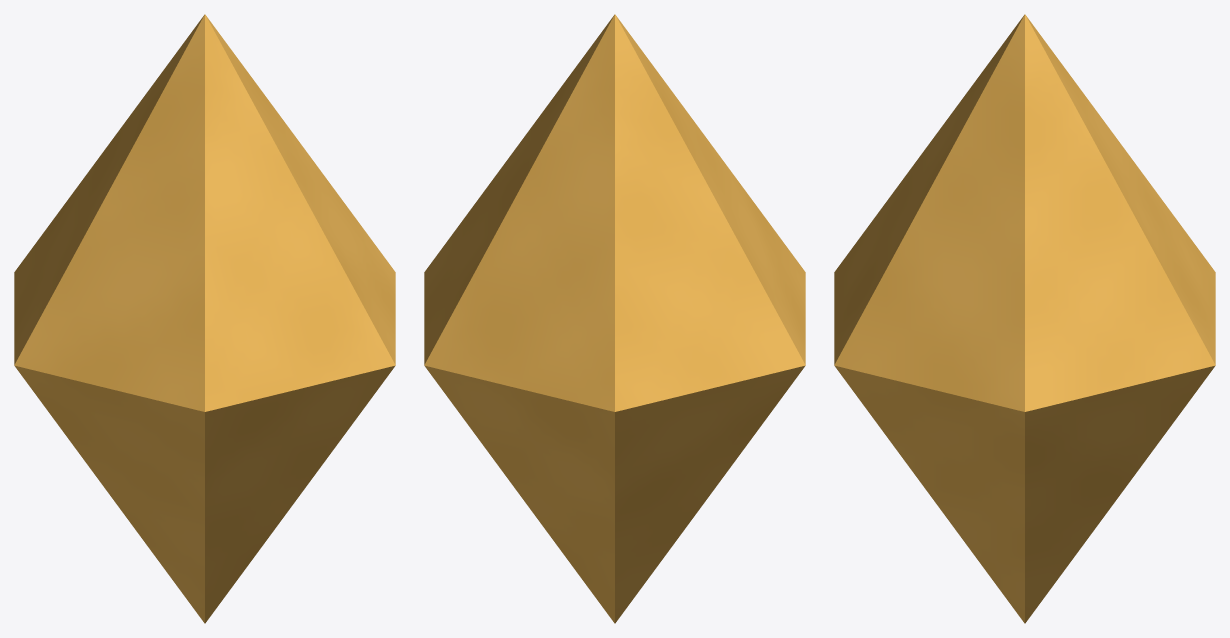
File: heart.obj
The picture shows the model from 3 angles, left to right: view 1: azimuth 30°, elevation 25°; view 2: azimuth 150°, elevation 25°; view 3: azimuth 270°, elevation 25°; orthographic projection.
Parts seen in each view (by area): view 1: heart; view 2: heart; view 3: heart.
Part boxes in pixels (x1,y1,x2,y2): heart: (14,14,395,623); heart: (424,14,805,623); heart: (834,14,1215,623).
Bounding box in the file's own units: 0.72 × 1.1 × 0.6235.
1 material, 1 textured.
